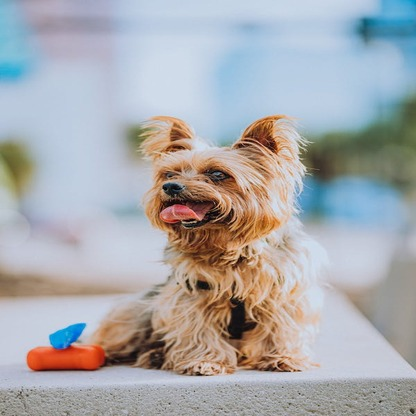yorkshire: (91, 113, 324, 376)
